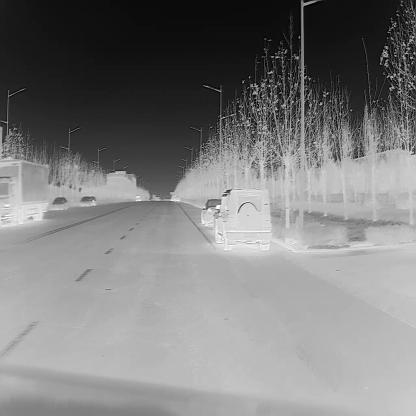car: (215, 187, 272, 253), (0, 157, 51, 226), (201, 199, 222, 225), (51, 196, 68, 209), (79, 195, 91, 207), (88, 196, 98, 207), (135, 194, 141, 202), (173, 197, 181, 202)
